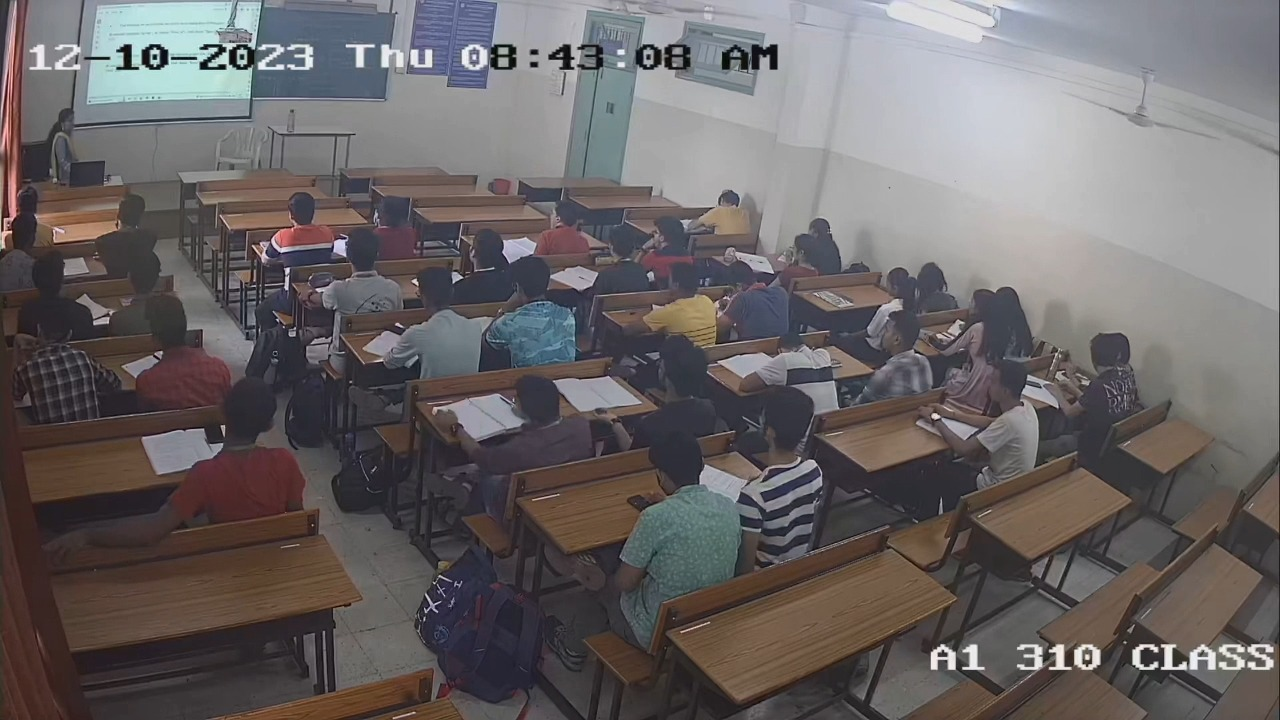cell-phones: (625, 493, 649, 513), (203, 423, 223, 445), (593, 254, 618, 268), (384, 322, 407, 336), (1022, 378, 1043, 390)
person: (609, 429, 738, 612), (176, 377, 305, 524), (385, 268, 482, 376), (1055, 331, 1131, 426), (592, 226, 650, 289)
